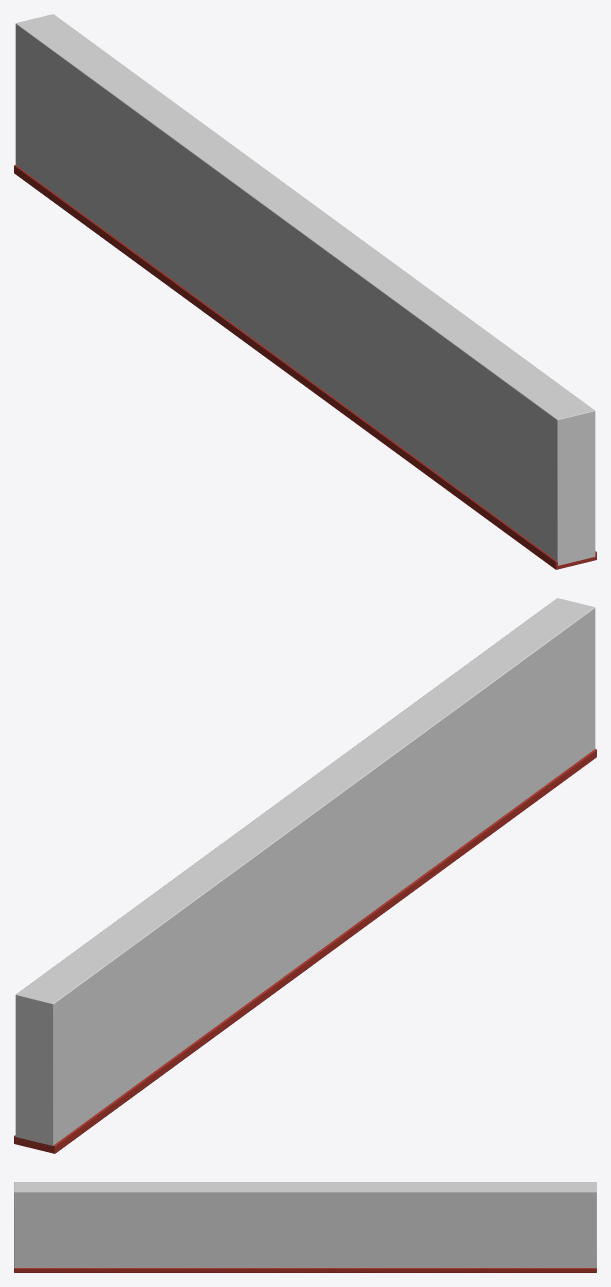
The model's file is PH_Bulkhead.fbx.
3 renders of one model, top to bottom at view 1: azimuth 30°, elevation 25°; view 2: azimuth 150°, elevation 25°; view 3: azimuth 270°, elevation 25°, orthographic. The views are drawn at different scales.
Parts seen in each view (by area): view 1: PH_Bulkhead; view 2: PH_Bulkhead; view 3: PH_Bulkhead.
Part boxes in pixels (x1,y1,x2,y2): PH_Bulkhead: (14, 14, 596, 569); PH_Bulkhead: (14, 598, 596, 1153); PH_Bulkhead: (14, 1182, 596, 1272).
Bounding box in the file's own units: 0.26 × 0.9 × 5.9.
